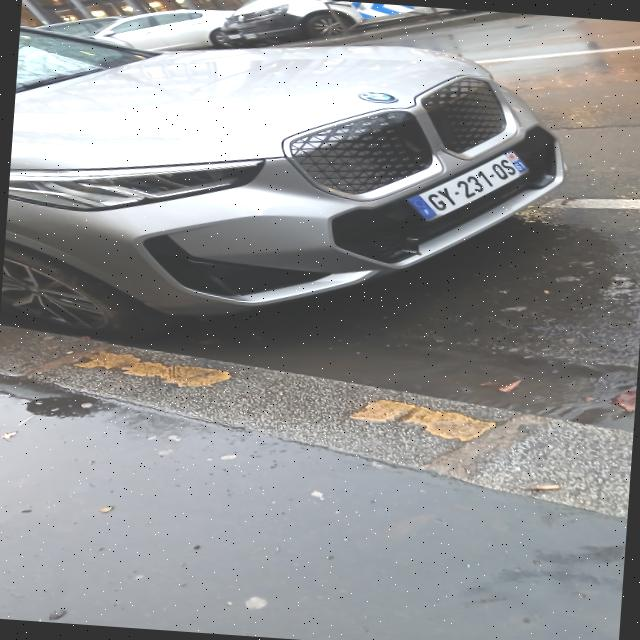Autre: (413, 150, 544, 217)
